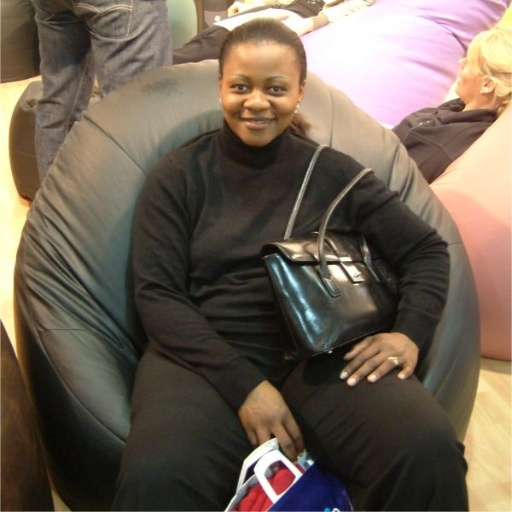hand: (236, 381, 307, 462), (356, 325, 425, 382)
